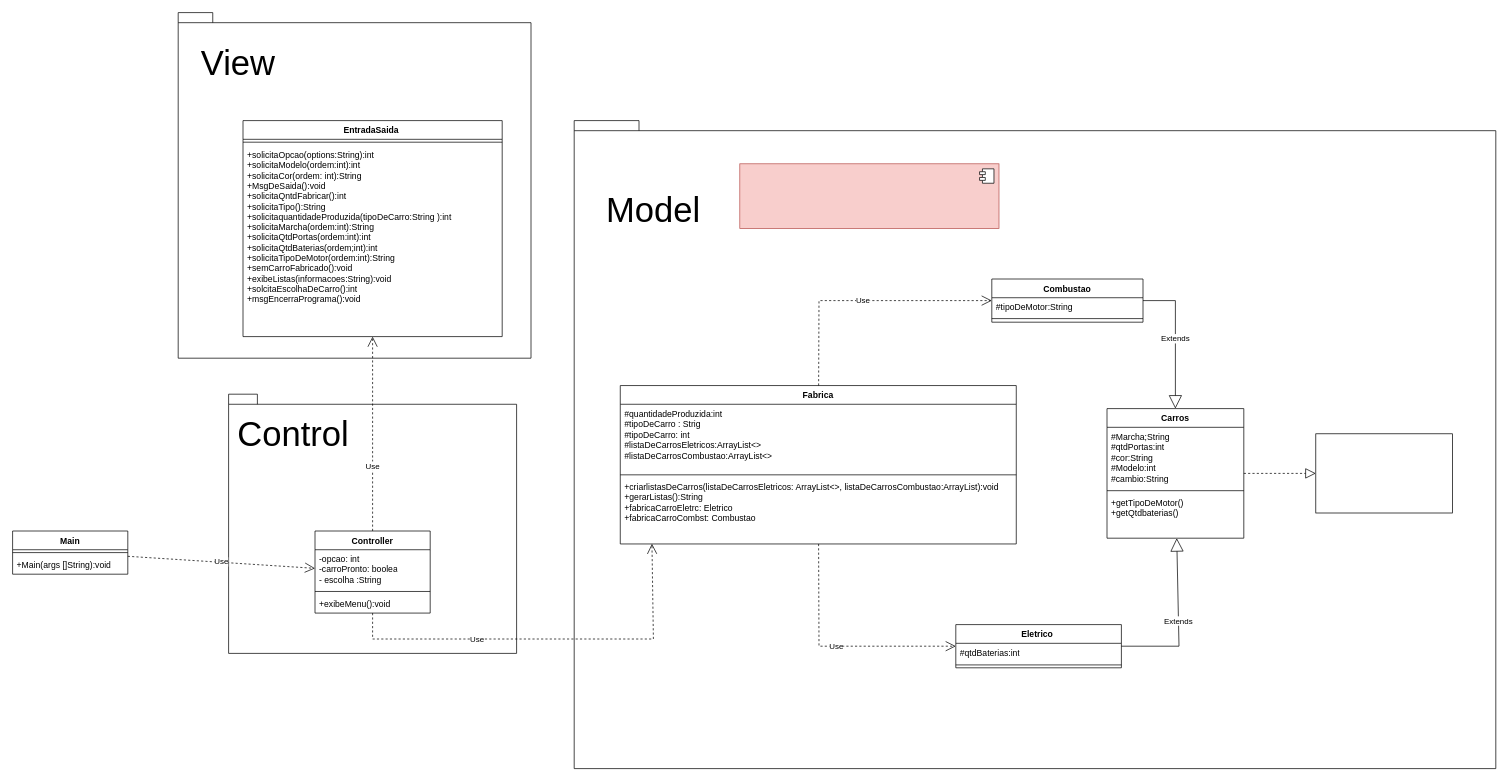
Some shapes in this 1508 by 781 pixel diagram are drawn without their labels. Here are the shapes that lost their labels. From the top down, the centre of each, then its label:
At (x=869, y=196): "«Annotation» Metodos Getters e Setters Omitidos no diagrama".
At (x=1384, y=473): "<<Interface>> Icarros +setMarcha():void +setQtdPortas:void +setCambio:void".
